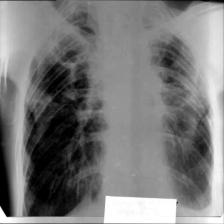tuberculosis: (19, 11, 216, 216)
